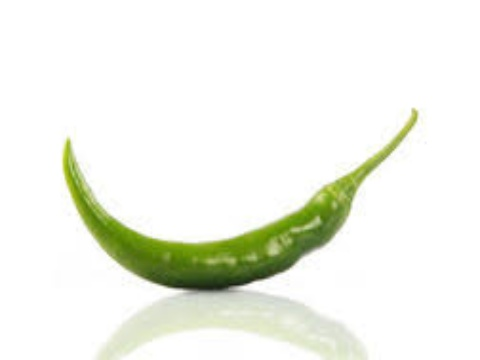Chilli: (43, 117, 422, 292)
